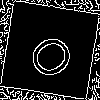O: (25, 25, 85, 84)
